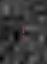one: (19, 20, 26, 43)
